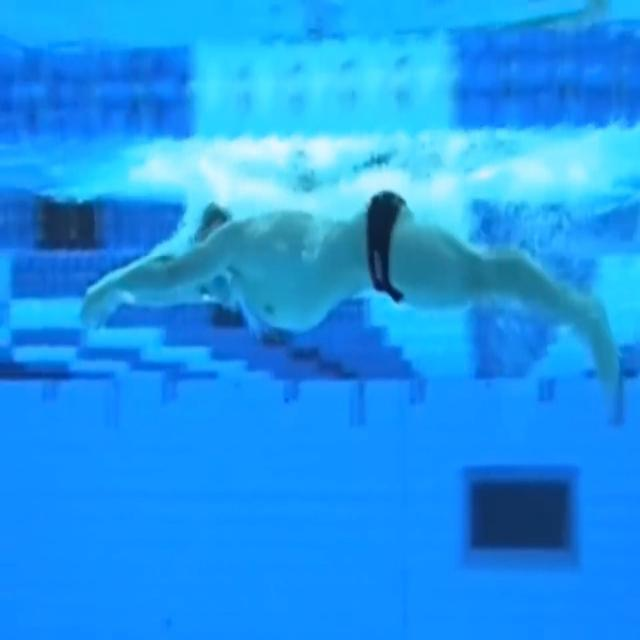Swimming: (81, 180, 622, 422)
